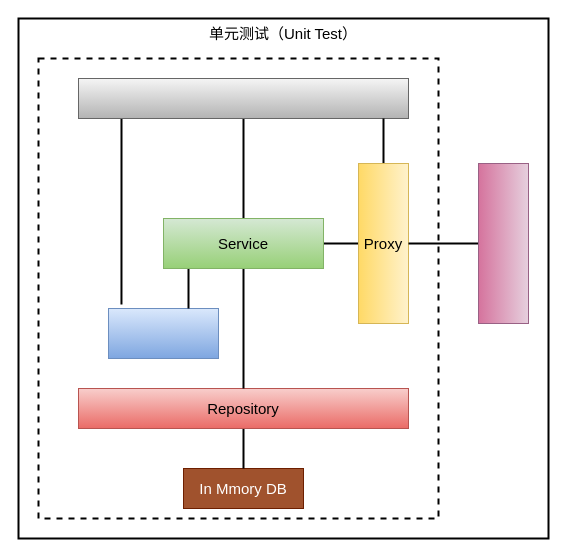
Image size: 566x556. Some labels were removed from this diagram. The centre of each missing label's shape, as x and y in pixels:
"Controller" belongs at (243,98).
"Domain" belongs at (163,333).
"External Service" belongs at (503,243).
